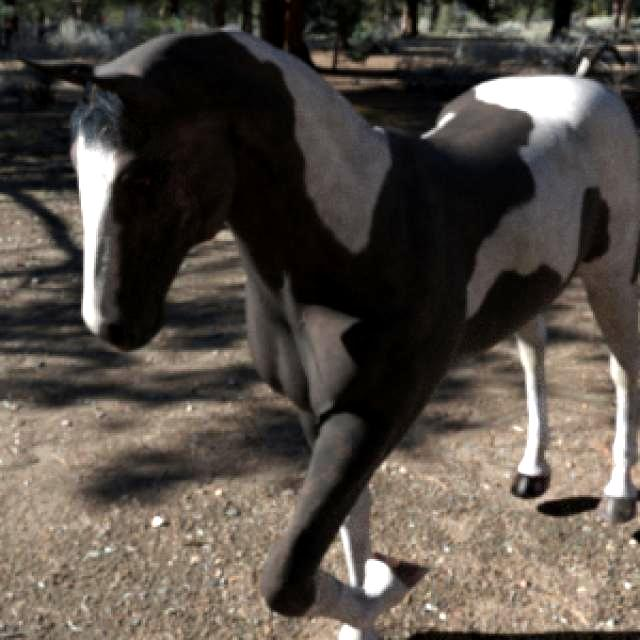horse: (37, 31, 640, 640), (512, 318, 550, 496)
